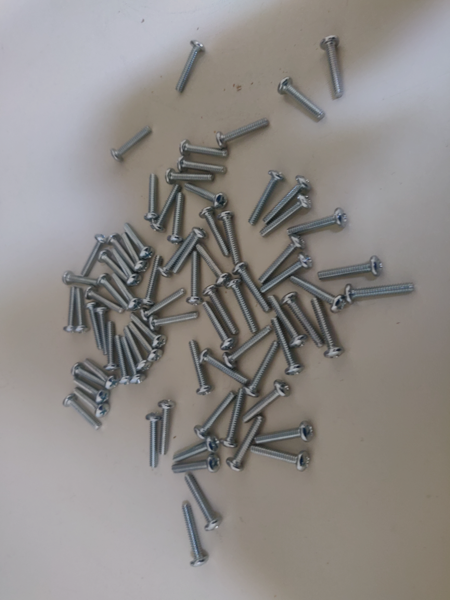longscrew: (279, 293, 328, 350), (184, 474, 223, 533), (260, 196, 311, 240), (309, 295, 344, 359), (263, 178, 312, 223), (266, 318, 303, 377), (242, 382, 290, 427), (267, 295, 305, 348), (277, 79, 326, 120), (167, 40, 207, 90), (227, 418, 264, 471), (190, 396, 236, 438), (222, 278, 257, 333), (234, 264, 269, 319), (260, 238, 304, 281), (261, 257, 312, 294), (318, 259, 383, 288), (218, 117, 270, 153), (249, 172, 286, 222), (182, 501, 209, 569), (174, 224, 210, 274), (225, 330, 271, 369), (291, 279, 346, 310), (256, 423, 316, 451), (199, 206, 231, 258), (246, 345, 278, 396), (158, 232, 193, 277), (201, 351, 247, 385), (288, 212, 347, 238), (203, 303, 237, 348), (203, 286, 237, 331), (150, 183, 182, 230), (344, 281, 420, 300), (126, 323, 164, 361), (324, 33, 343, 106), (111, 127, 152, 160), (143, 291, 185, 322), (189, 338, 211, 396), (172, 436, 219, 463), (224, 388, 245, 448), (119, 331, 143, 383), (186, 246, 207, 305), (127, 324, 153, 371), (221, 210, 241, 266), (80, 232, 106, 275), (72, 389, 109, 419), (251, 449, 309, 468), (82, 357, 118, 387), (110, 234, 137, 274), (72, 363, 109, 392), (143, 253, 164, 304), (173, 455, 221, 477), (130, 315, 163, 347), (197, 248, 228, 282), (63, 398, 99, 427), (71, 374, 107, 403), (124, 221, 152, 258), (146, 312, 201, 330), (142, 411, 159, 468), (156, 397, 173, 454), (112, 248, 138, 285), (168, 189, 186, 242), (121, 233, 145, 272), (97, 275, 125, 308), (84, 290, 124, 313), (115, 272, 138, 310), (177, 141, 231, 156), (180, 184, 229, 200), (62, 286, 78, 333), (71, 285, 87, 332), (85, 301, 101, 348), (103, 323, 119, 370), (115, 336, 131, 382), (94, 307, 109, 354), (99, 253, 124, 280), (174, 160, 230, 172), (146, 169, 158, 219), (164, 171, 216, 182), (62, 272, 100, 285)
